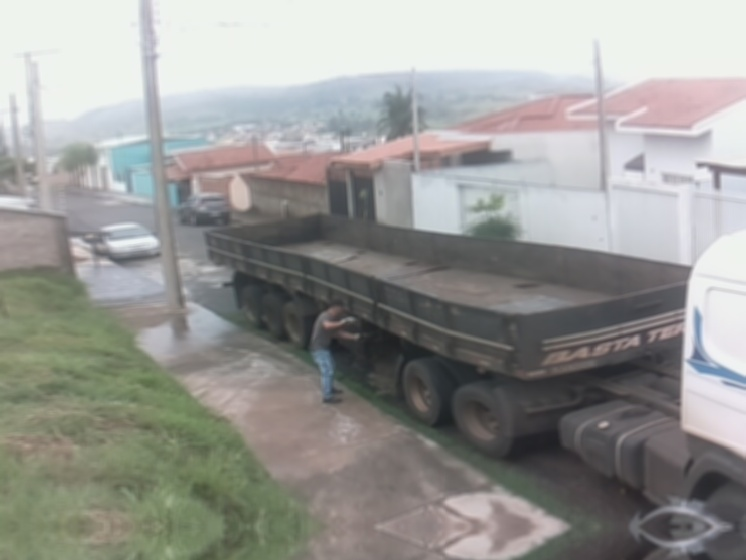person: (306, 298, 363, 404)
